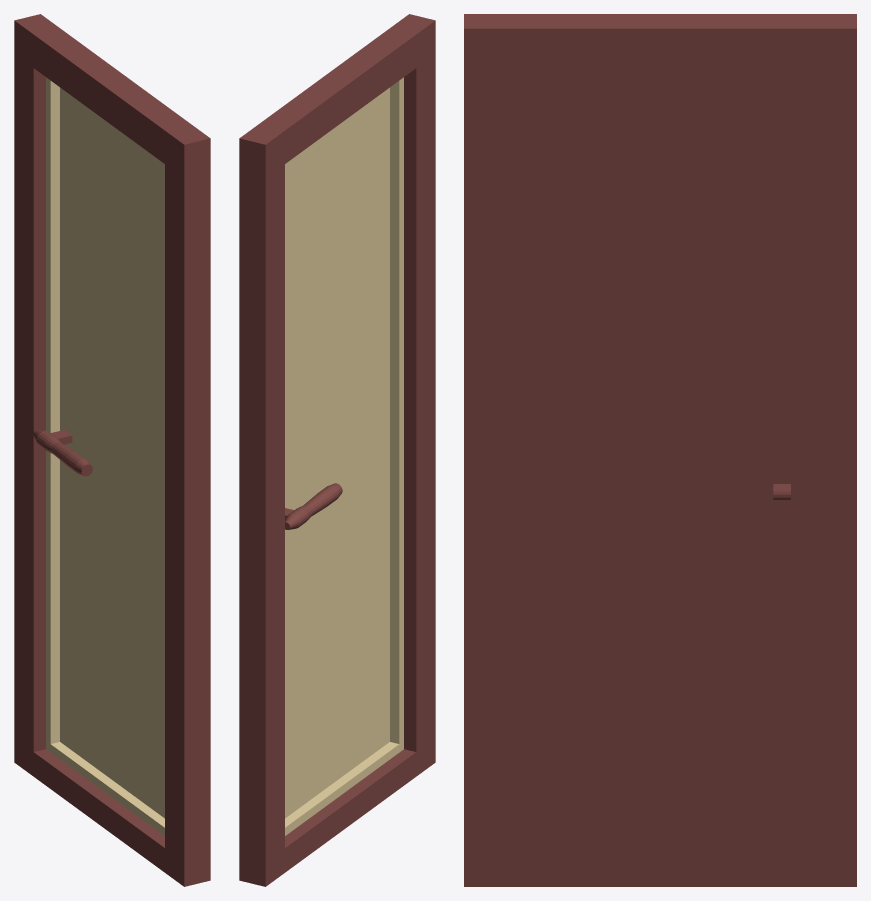
The model's file is Door.glb.
The picture shows the model from 3 angles, left to right: view 1: azimuth 30°, elevation 25°; view 2: azimuth 150°, elevation 25°; view 3: azimuth 270°, elevation 25°; orthographic projection. The views are drawn at different scales.
Parts seen in each view (by area): view 1: Cube.007; view 2: Cube.007; view 3: Cube.007.
Part boxes in pixels (<box>): Cube.007: <box>14,14,210,886</box>; Cube.007: <box>239,14,435,886</box>; Cube.007: <box>464,14,856,886</box>.
Size of the model in its own units: 0.1394 by 2.13 by 0.8838.
